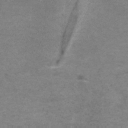finishing roll printing: (54, 0, 80, 66)
